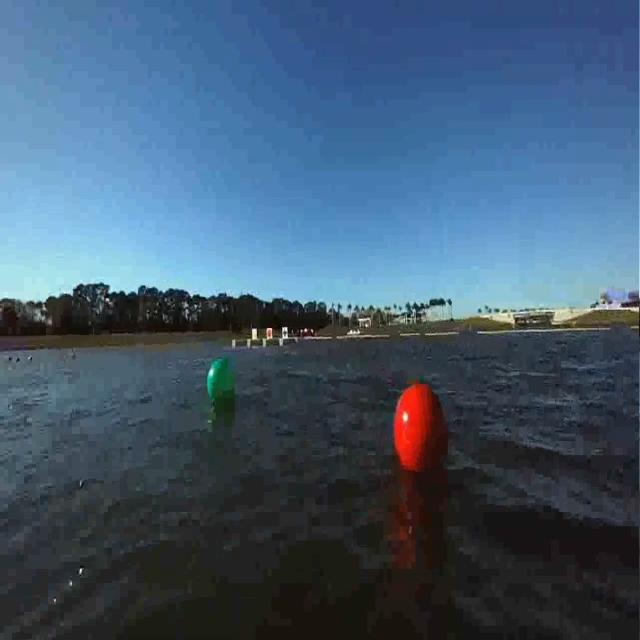green-buoy: (204, 356, 237, 412)
red-buoy: (392, 381, 452, 476)
